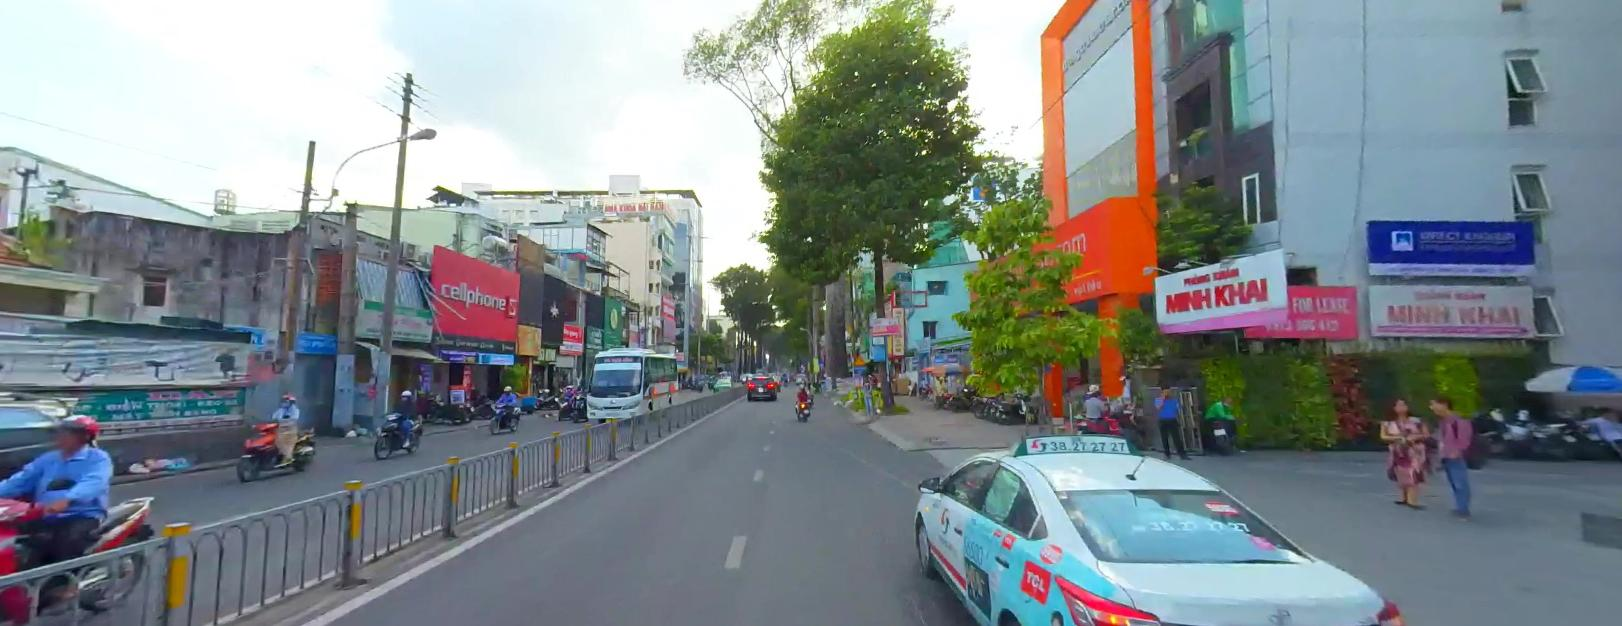Nguy hiem: (854, 352, 865, 363)
